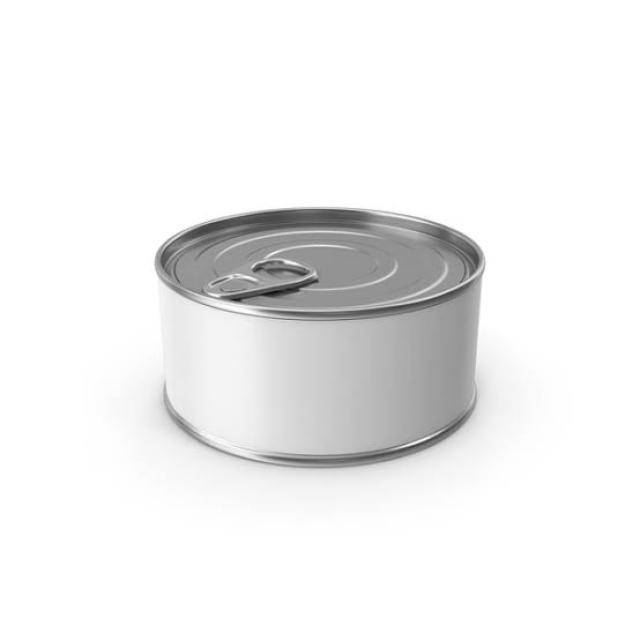can: (148, 215, 522, 459)
